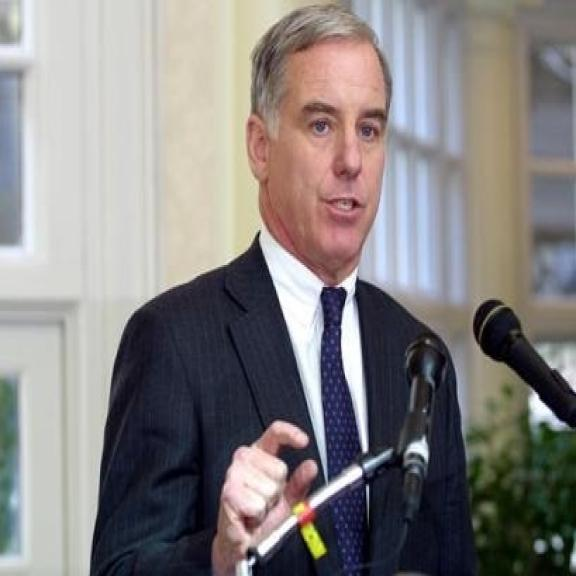face: (241, 22, 391, 274)
